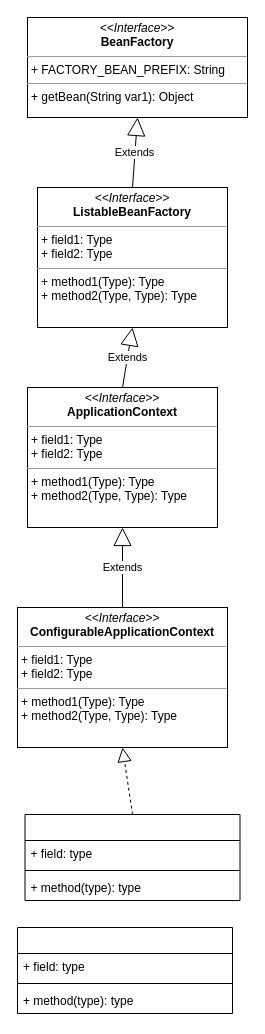
Image size: 265x1034. Some labels were removed from this diagram. The box of each missing label's shape, as (x1, y1, x2, y2) in pixels:
AbstractApplicationContext: (24, 814, 240, 900)
AbstractXmlApplicationContext: (16, 926, 232, 1014)
